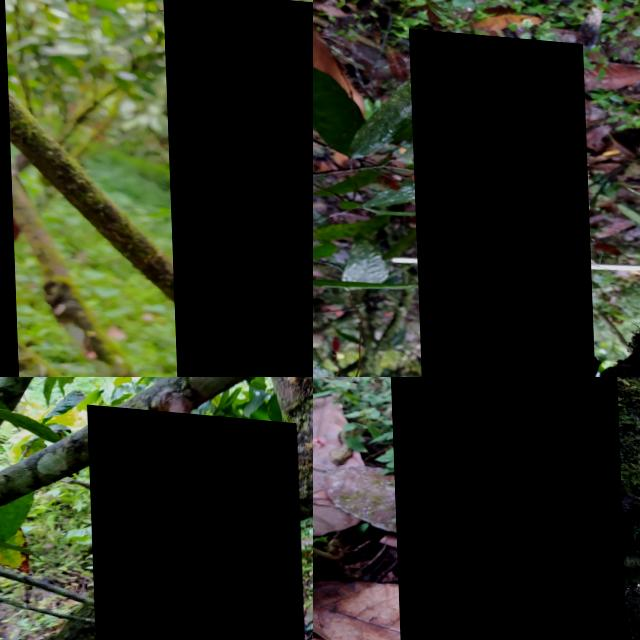Fitoftora: (162, 0, 313, 377), (86, 400, 305, 640)
Monilia: (408, 23, 593, 377)
Sana: (387, 377, 625, 640)
